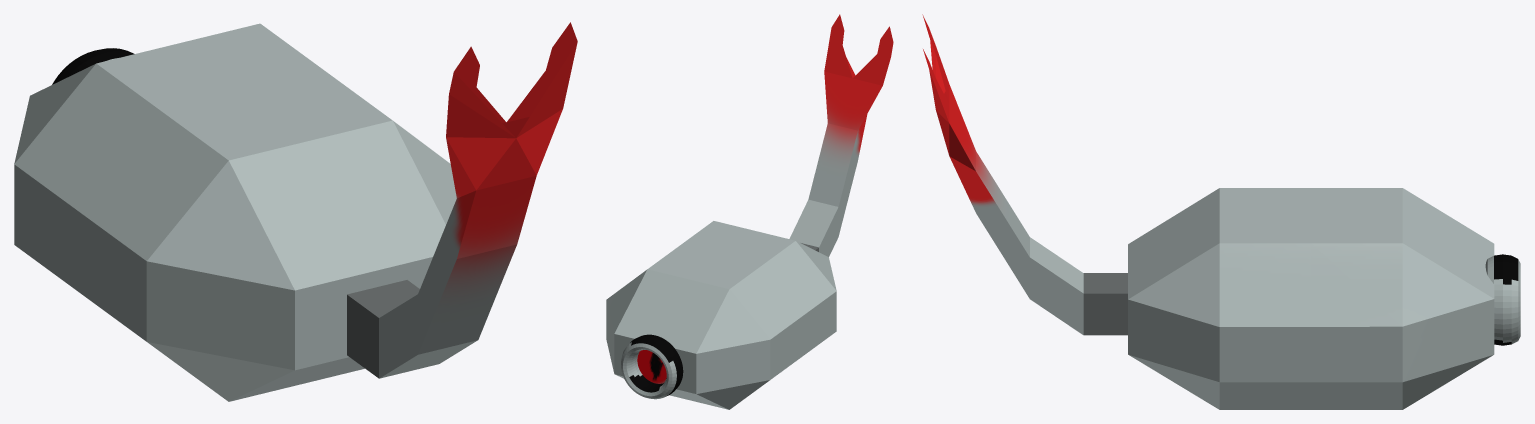
The model's file is needle_Body.obj.
3 renders of one model, left to right at view 1: azimuth 30°, elevation 25°; view 2: azimuth 150°, elevation 25°; view 3: azimuth 270°, elevation 25°, orthographic. The views are drawn at different scales.
Parts seen in each view (by area): view 1: トーラス; view 2: トーラス; view 3: トーラス.
Boxes of the visible parts, x1,y1,x2,y2 form: トーラス: [14, 22, 577, 401]; トーラス: [606, 14, 893, 409]; トーラス: [922, 14, 1520, 409].
Bounding box in the file's own units: 1.42 × 2.1 × 3.25.
1 material, 1 textured.
